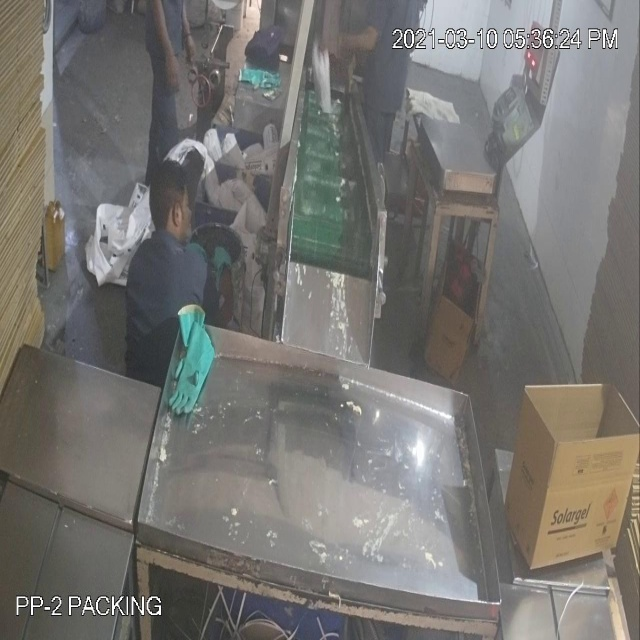Sin_guantes: (146, 1, 183, 95)
